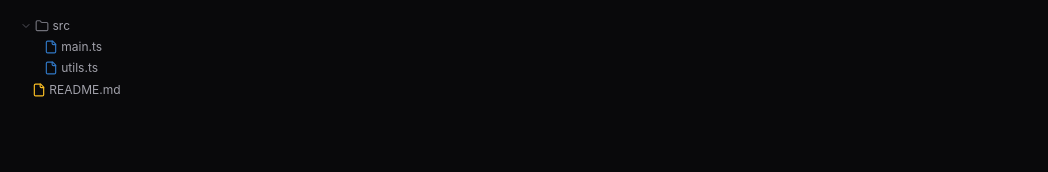
Test: FileTree › shows context menu on right-click of empty space
The width and height of the screenshot is (1048, 172).
Right-click the text "README.md" at (524, 58), box [12, 15, 1036, 100]
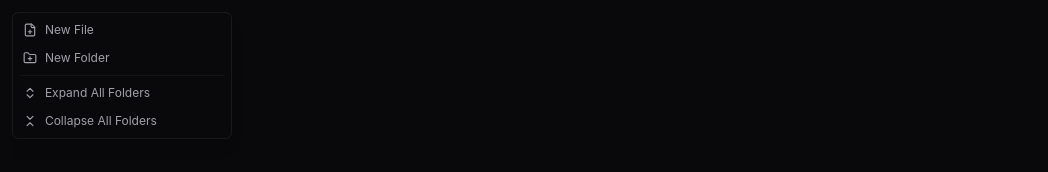
expect the button "New File" is shown: met, box [13, 16, 231, 44]
